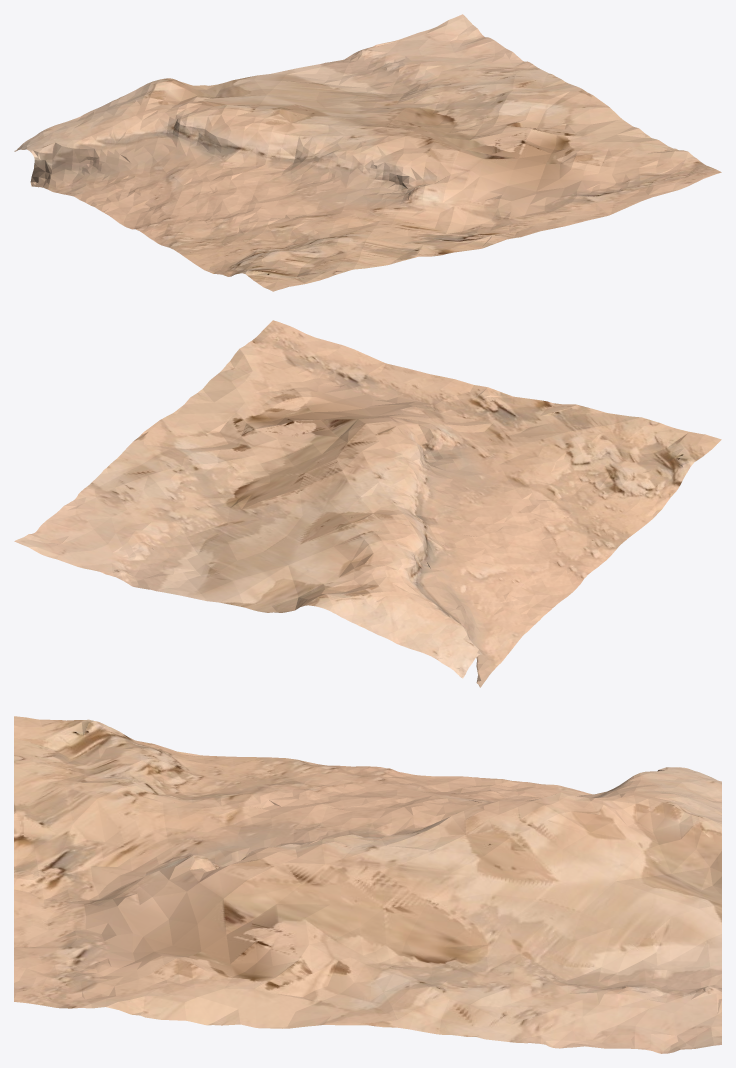
3 renders of one model, top to bottom at view 1: azimuth 30°, elevation 25°; view 2: azimuth 150°, elevation 25°; view 3: azimuth 270°, elevation 25°, orthographic. The views are drawn at different scales.
Size of the model in its own units: 2.09 by 0.3789 by 2.09.
Materials: 2 (2 with a texture image).
